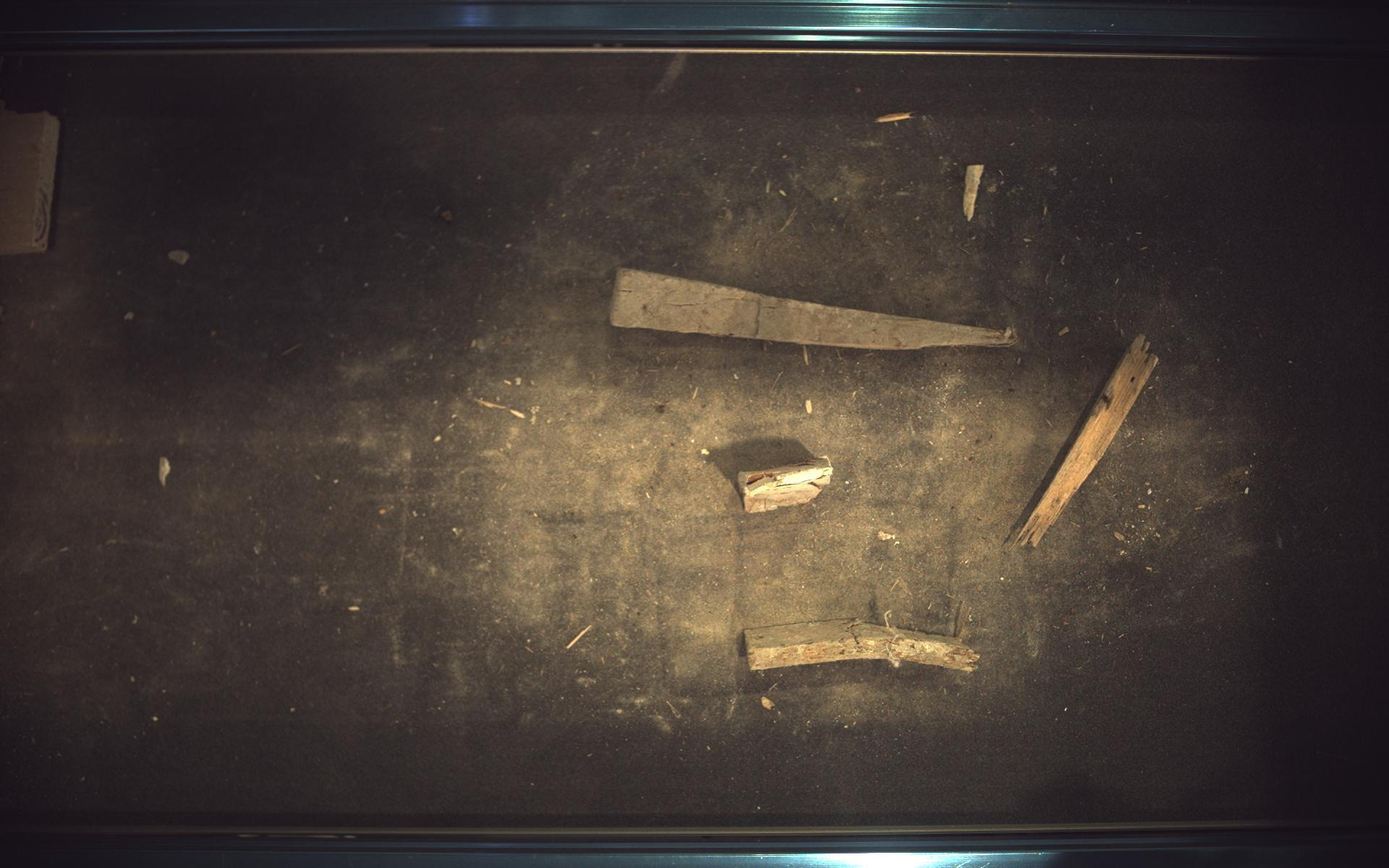wood: (611, 268, 1019, 349), (739, 458, 835, 514)
